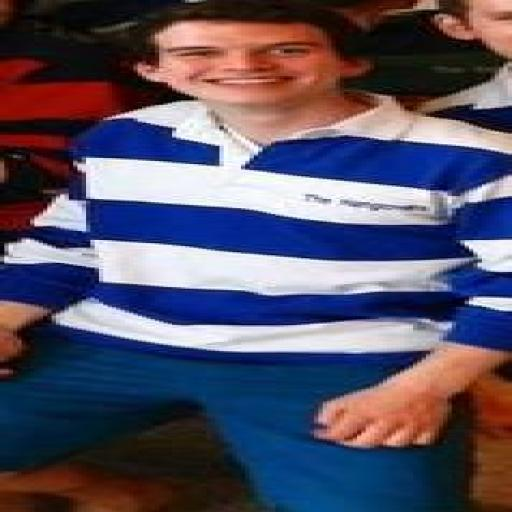person: (0, 0, 511, 511), (0, 0, 154, 244), (422, 0, 511, 132)
